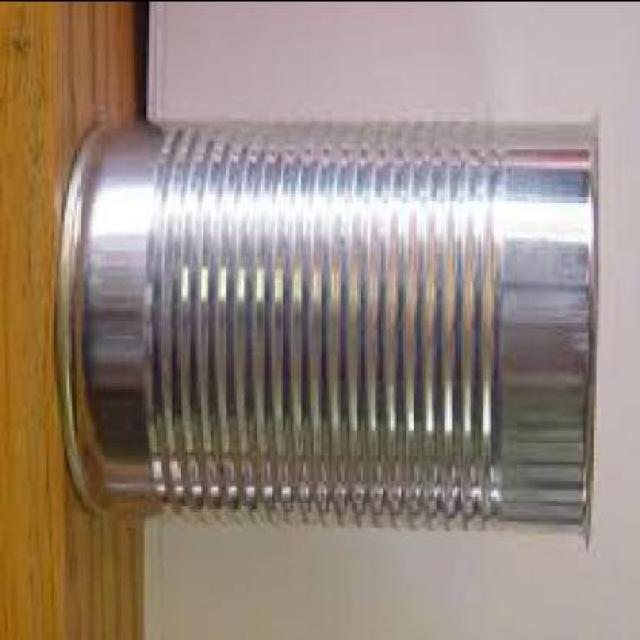METAL: (59, 110, 601, 542)
